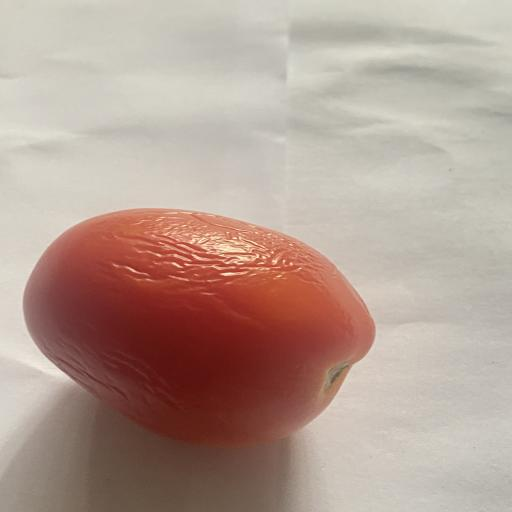spoiled: (23, 209, 375, 446)
